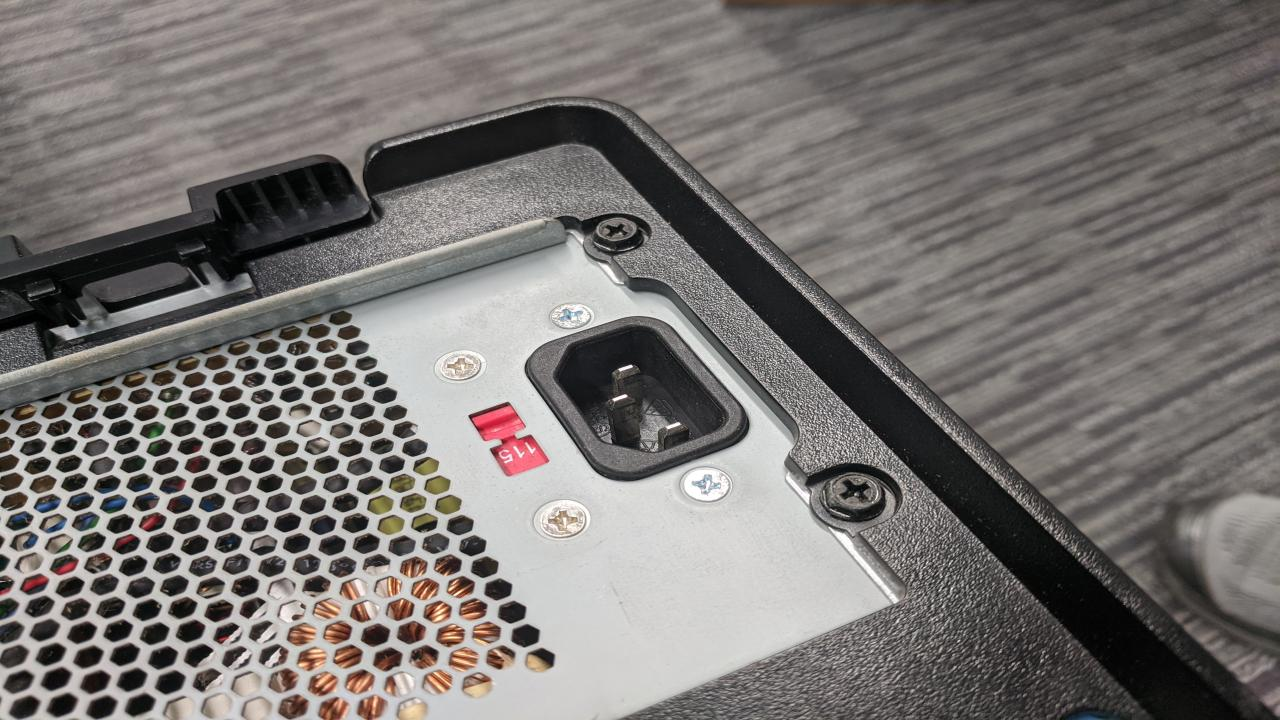CRS: (818, 468, 886, 523), (586, 210, 640, 258), (533, 497, 590, 537), (682, 462, 732, 504), (437, 348, 482, 380), (548, 300, 593, 328)
